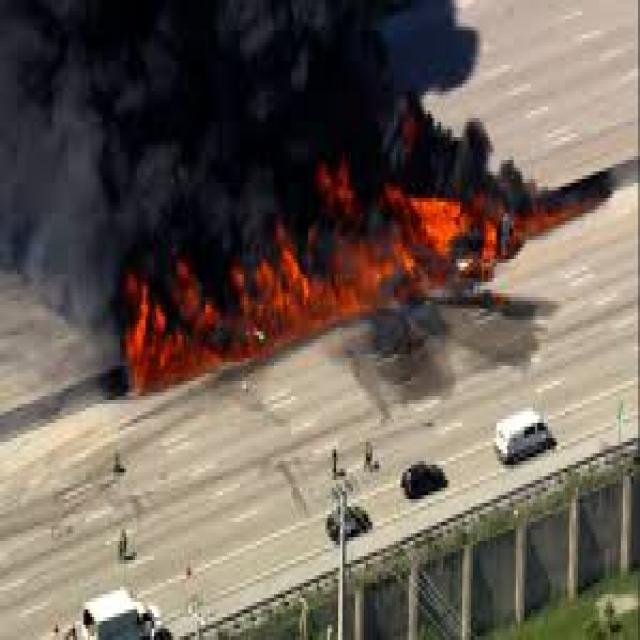fire: (313, 160, 526, 320), (225, 240, 349, 370), (115, 271, 227, 396)
smoke: (2, 4, 522, 198), (2, 198, 114, 351)
